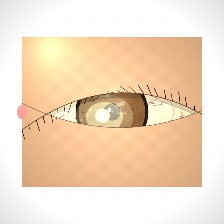corneal_ulcer: (74, 93, 134, 141)
